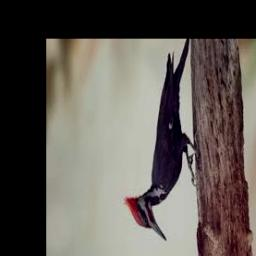Woodpecker: (125, 39, 197, 242)
